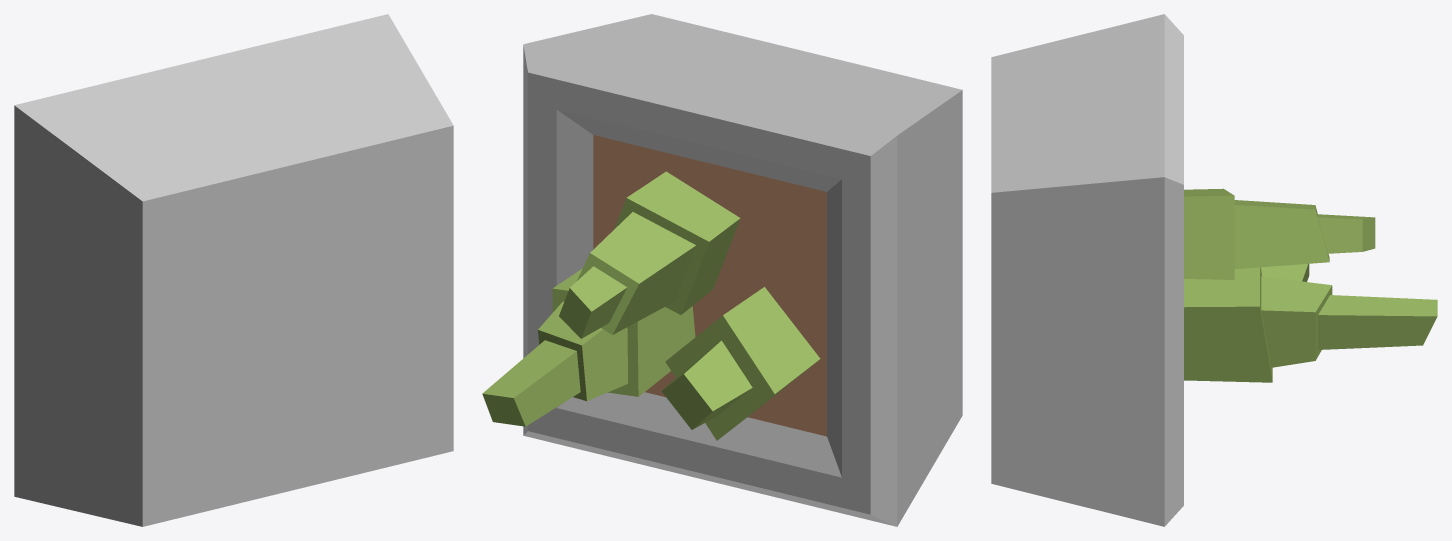
The model's file is Deco_2.glb.
3 views of the same model, side by side, from view 1: azimuth 30°, elevation 25°; view 2: azimuth 150°, elevation 25°; view 3: azimuth 270°, elevation 25° (orthographic). The views are drawn at different scales.
Parts seen in each view (by area): view 1: Deco 2; view 2: Deco 2; view 3: Deco 2.
Boxes of the visible parts, x1,y1,x2,y2 form: Deco 2: (14,14,453,526); Deco 2: (482,14,962,526); Deco 2: (991,14,1437,526).
Size of the model in its own units: 0.0798 by 0.0798 by 0.0922.
1 material, 1 textured.
